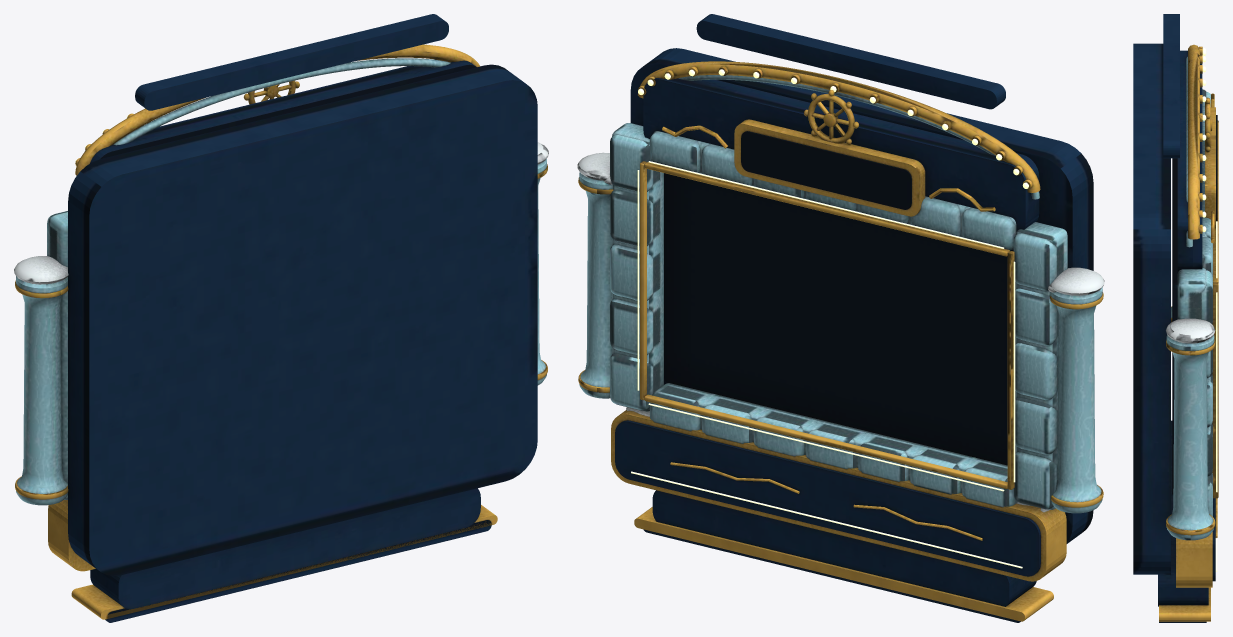
3 views of the same model, side by side, from view 1: azimuth 30°, elevation 25°; view 2: azimuth 150°, elevation 25°; view 3: azimuth 270°, elevation 25° (orthographic). The views are drawn at different scales.
Parts seen in each view (by area): view 1: Deep_navy_enamel, Frosted_blue_ice, Polished_honey_gold, Soft_fresh_snow; view 2: Uniform_dark_display, Deep_navy_enamel, Frosted_blue_ice, Polished_honey_gold, Warm_bulb_and_trim_glow, Soft_fresh_snow; view 3: Deep_navy_enamel, Frosted_blue_ice, Polished_honey_gold, Uniform_dark_display, Soft_fresh_snow, Warm_bulb_and_trim_glow.
Part boxes in pixels (x1,y1,x2,y2): Deep_navy_enamel: (68,14,537,622); Frosted_blue_ice: (16,58,546,505); Polished_honey_gold: (15,44,547,619); Soft_fresh_snow: (14,142,548,284); Uniform_dark_display: (664,131,1015,465); Deep_navy_enamel: (615,14,1093,622); Frosted_blue_ice: (579,75,1102,513); Polished_honey_gold: (578,61,1103,621); Warm_bulb_and_trim_glow: (631,69,1028,568); Soft_fresh_snow: (577,152,1104,512); Deep_navy_enamel: (1133,14,1215,622); Frosted_blue_ice: (1166,56,1214,540); Polished_honey_gold: (1159,44,1218,621); Uniform_dark_display: (1172,115,1217,494); Soft_fresh_snow: (1166,318,1215,343); Warm_bulb_and_trim_glow: (1202,48,1217,571).
Size of the model in its own units: 9.8 by 9.2 by 1.54.
Materials: 6 (5 with a texture image).
